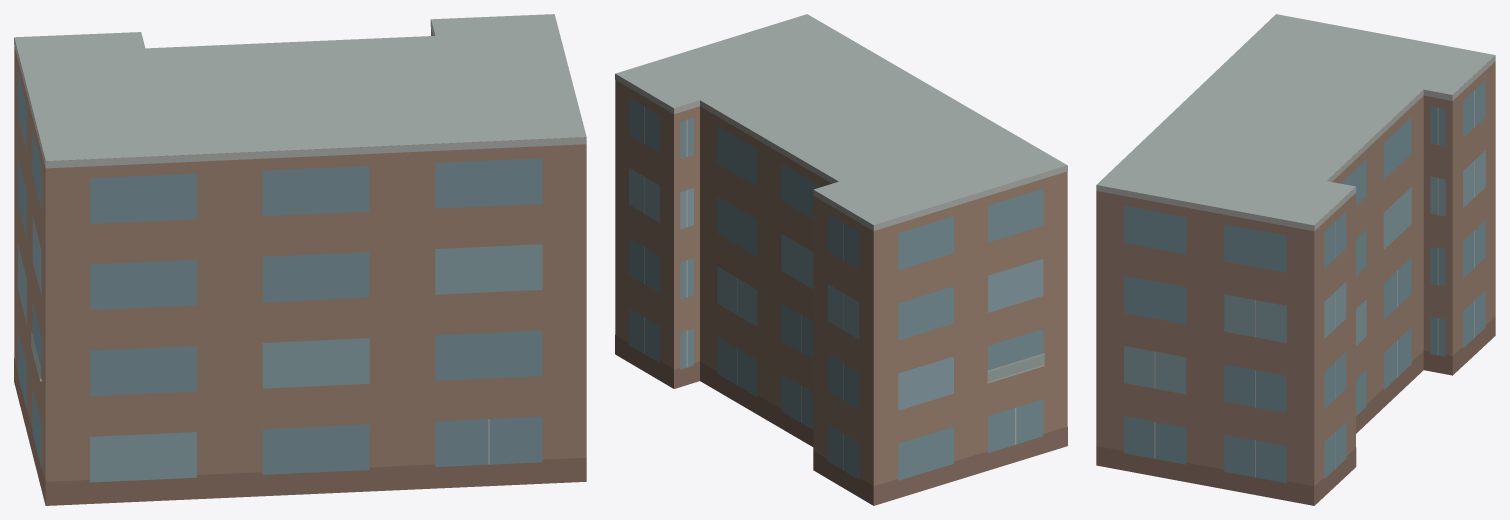
The model's file is survey-upis-32990248.glb.
3 renders of one model, left to right at view 1: azimuth 30°, elevation 25°; view 2: azimuth 150°, elevation 25°; view 3: azimuth 270°, elevation 25°, orthographic. The views are drawn at different scales.
Visible parts, largest first — view 1: survey-upis-32990248.tmp; view 2: survey-upis-32990248.tmp; view 3: survey-upis-32990248.tmp.
Boxes of the visible parts, x1,y1,x2,y2 form: survey-upis-32990248.tmp: (14, 14, 586, 505); survey-upis-32990248.tmp: (615, 14, 1067, 505); survey-upis-32990248.tmp: (1096, 14, 1495, 505).
Bounding box in the file's own units: 18.76 × 11.6 × 14.98.
